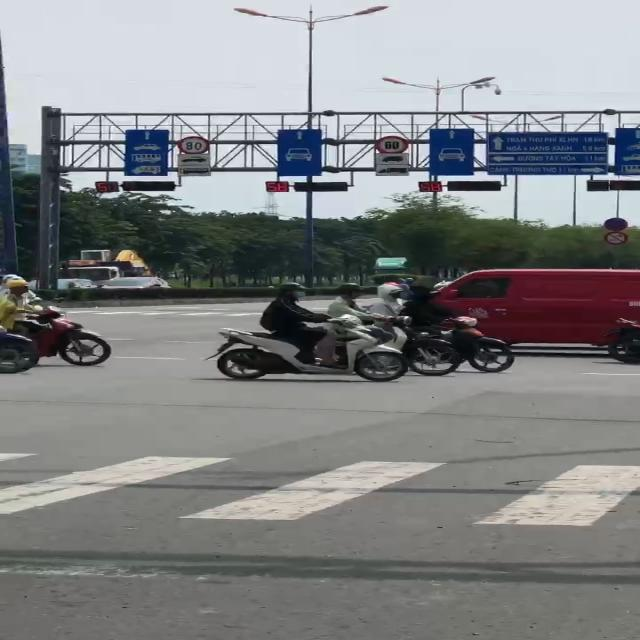Bien bao toc do toi da cho phep: (370, 132, 412, 154), (177, 135, 215, 157)
